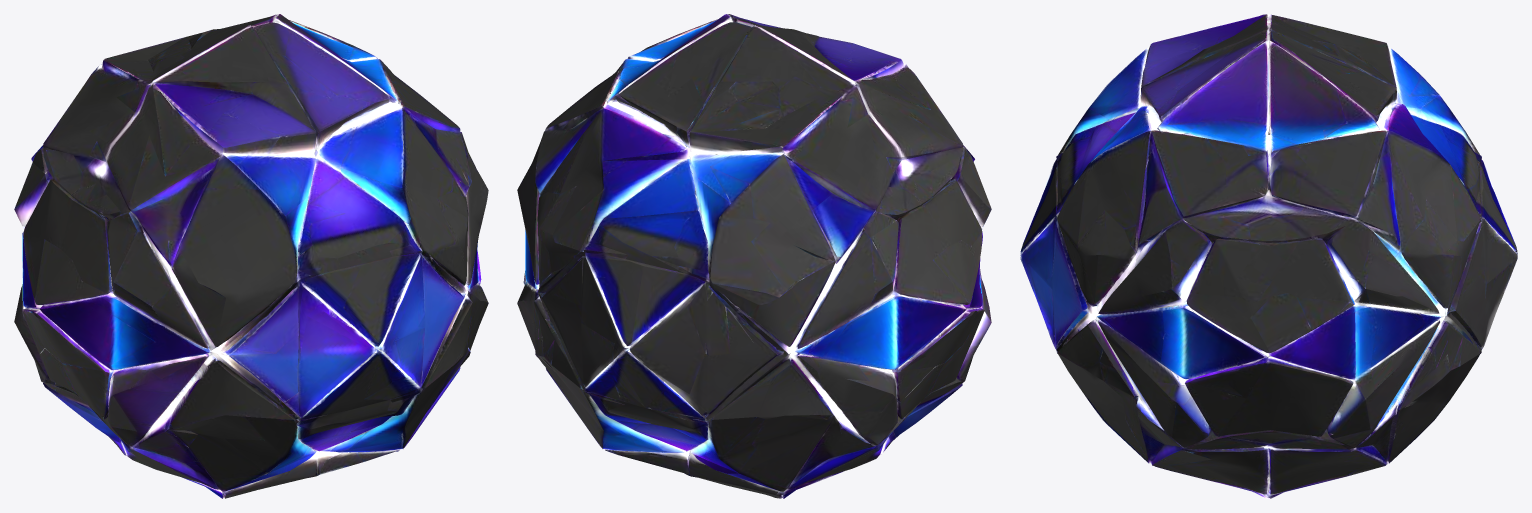
File: hero-sculpture.glb
3 views of the same model, side by side, from view 1: azimuth 30°, elevation 25°; view 2: azimuth 150°, elevation 25°; view 3: azimuth 270°, elevation 25° (orthographic). The views are drawn at different scales.
Size of the model in its own units: 1.86 by 1.9 by 1.9.
1 material, 1 textured.
